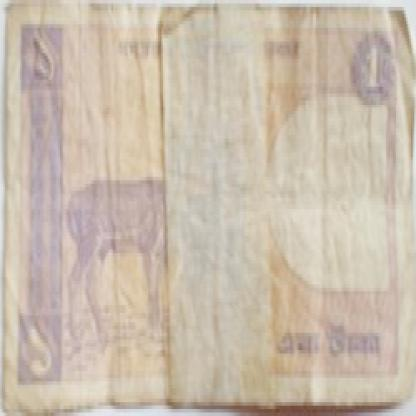One Taka: (273, 319, 388, 367), (20, 315, 62, 382), (23, 28, 60, 94), (354, 35, 388, 100)
